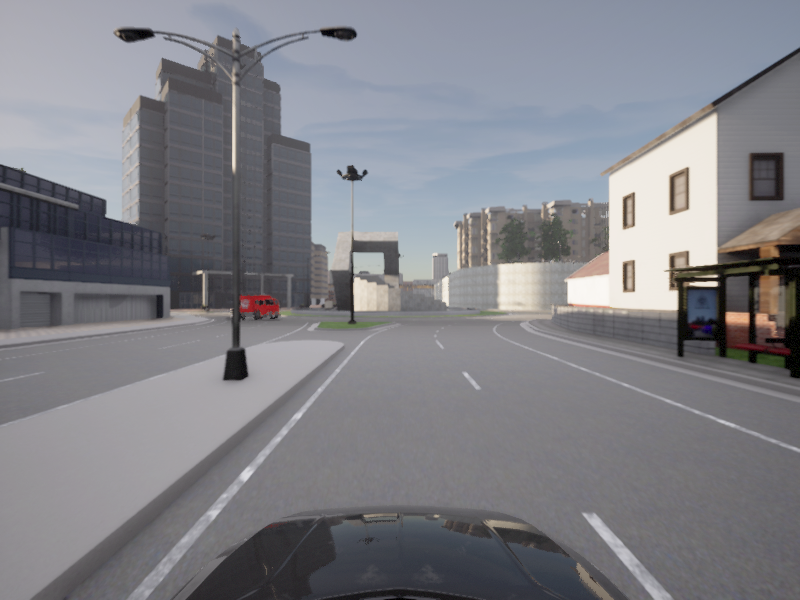vehicle: (230, 294, 284, 320)
